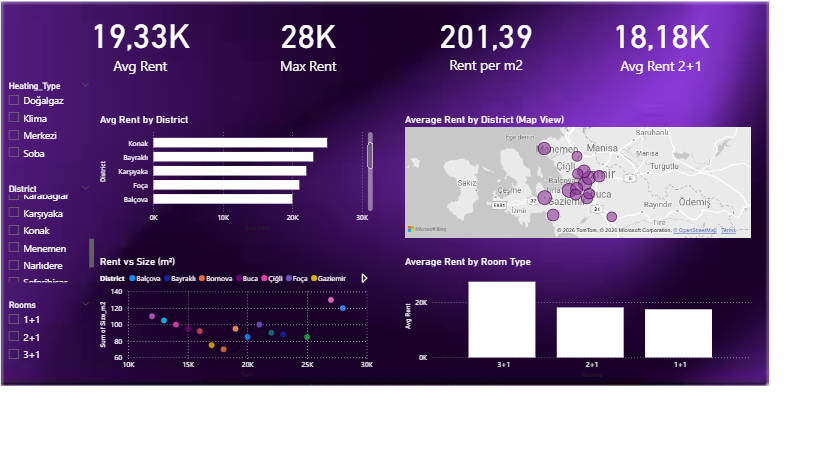

The page's visual inventory and layout, read from the dashboard file:
{"tool":"powerbi","page":{"name":"Page 1","canvas":[1280,720],"ordinal":0},"visuals":[{"type":"card","fields":{"Values":["izmir_rent.Avg Rent"]},"box":[91.2,12,280.4,173.8],"z":0},{"type":"card","fields":{"Values":["izmir_rent.Max Rent"]},"box":[371.6,12,280.4,173.8],"z":1},{"type":"card","fields":{"Values":["izmir_rent.Rent per m2"]},"box":[667.7,12,280,173.7],"z":2},{"type":"card","fields":{"Values":["izmir_rent.Avg Rent 2+1"]},"box":[960,12,280.4,173.8],"z":3},{"type":"barChart","fields":{"Y":["izmir_rent.Avg Rent"],"Category":["izmir_rent.District"]},"box":[160,218.5,464.5,201.3],"z":4},{"type":"scatterChart","title":"Rent vs Size (m²)","fields":{"Y":["Sum(izmir_rent.Size_m2)"],"X":["izmir_rent.Rent"],"Series":["izmir_rent.District"]},"box":[160,454.2,464.5,209.9],"z":5},{"type":"clusteredColumnChart","title":"Average Rent by Room Type","fields":{"Y":["izmir_rent.Avg Rent"],"Category":["izmir_rent.Rooms"]},"box":[667.5,454.2,586.7,209.9],"z":6},{"type":"map","title":"Average Rent by District (Map View)","fields":{"Category":["izmir_rent.District"],"Size":["izmir_rent.Avg Rent"]},"box":[667.5,218.5,586.7,213.3],"z":7},{"type":"slicer","fields":{"Values":["izmir_rent.District"]},"box":[0,332,160,173.8],"z":8},{"type":"slicer","fields":{"Values":["izmir_rent.Rooms"]},"box":[0,524.7,160,156.6],"z":9},{"type":"slicer","fields":{"Values":["izmir_rent.Heating_Type"]},"box":[0,160,160,172],"z":10}]}

Visuals, with their boxes in screenshot pixels (x1, y1, x2, y2), scaled from the page's 1280x720 canvas onto the 819x460 screenshot:
card - izmir_rent.Avg Rent: x1=58, y1=8, x2=238, y2=119
card - izmir_rent.Max Rent: x1=238, y1=8, x2=417, y2=119
card - izmir_rent.Rent per m2: x1=427, y1=8, x2=606, y2=119
card - izmir_rent.Avg Rent 2+1: x1=614, y1=8, x2=794, y2=119
barChart - izmir_rent.Avg Rent x izmir_rent.District: x1=102, y1=140, x2=400, y2=268
"Rent vs Size (m²)" scatterChart: x1=102, y1=290, x2=400, y2=424
"Average Rent by Room Type" clusteredColumnChart: x1=427, y1=290, x2=802, y2=424
"Average Rent by District (Map View)" map: x1=427, y1=140, x2=802, y2=276
slicer - izmir_rent.District: x1=0, y1=212, x2=102, y2=323
slicer - izmir_rent.Rooms: x1=0, y1=335, x2=102, y2=435
slicer - izmir_rent.Heating_Type: x1=0, y1=102, x2=102, y2=212
